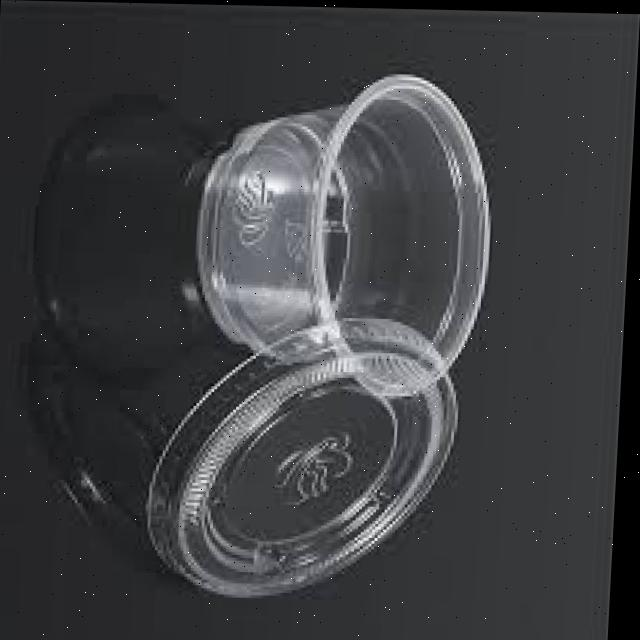disposable: (183, 71, 512, 392)
